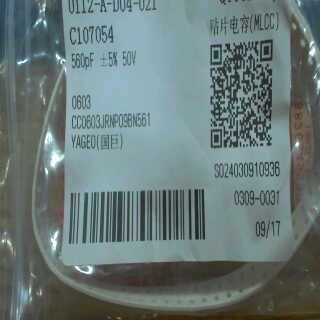560pF: (67, 49, 94, 69)
